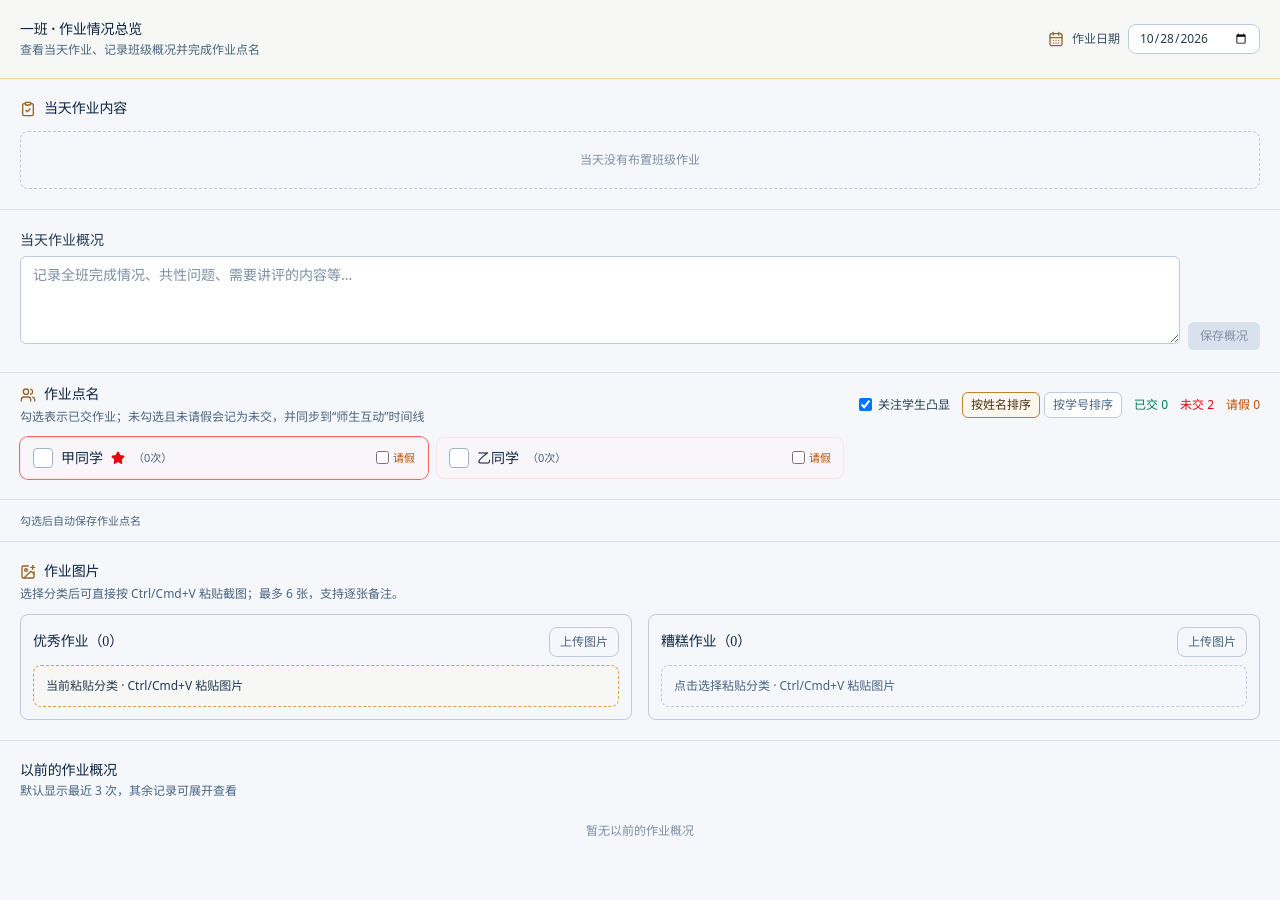
Test: ClassHomeworkOverview › enables highlighting by default and allows toggling its persistence
Expected: the heading "作业点名" is shown, [44,385,100,405]
Expected: the picture named "甲同学已关注" is shown, [111,451,125,465]
Click the checkbox labelled "关注学生凸显" at [866, 405], box [859,398,872,411]
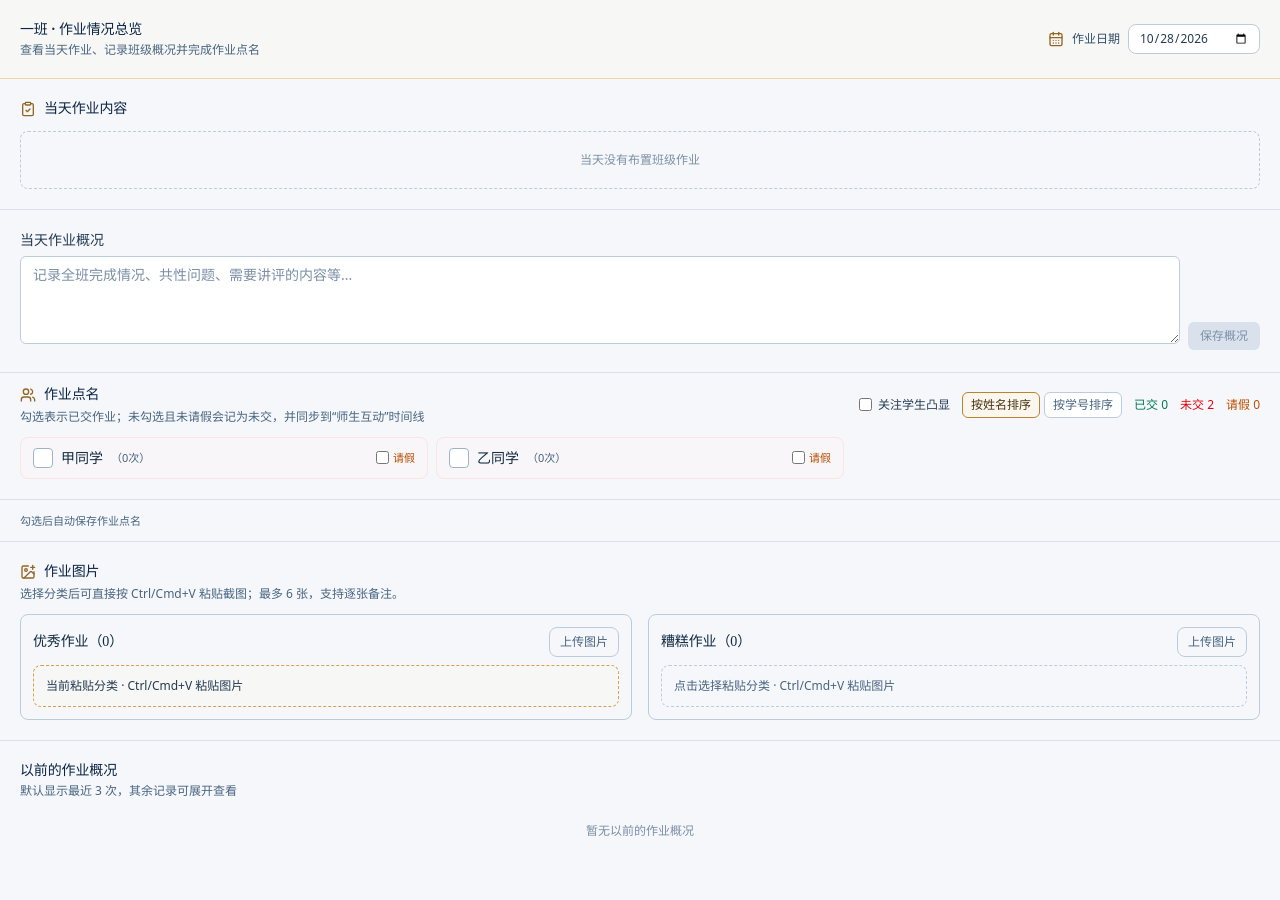
Now the checkbox labelled "关注学生凸显" is not checked
Now the picture "甲同学已关注" is gone
Click the checkbox labelled "关注学生凸显" at [866, 405], box [859,398,872,411]
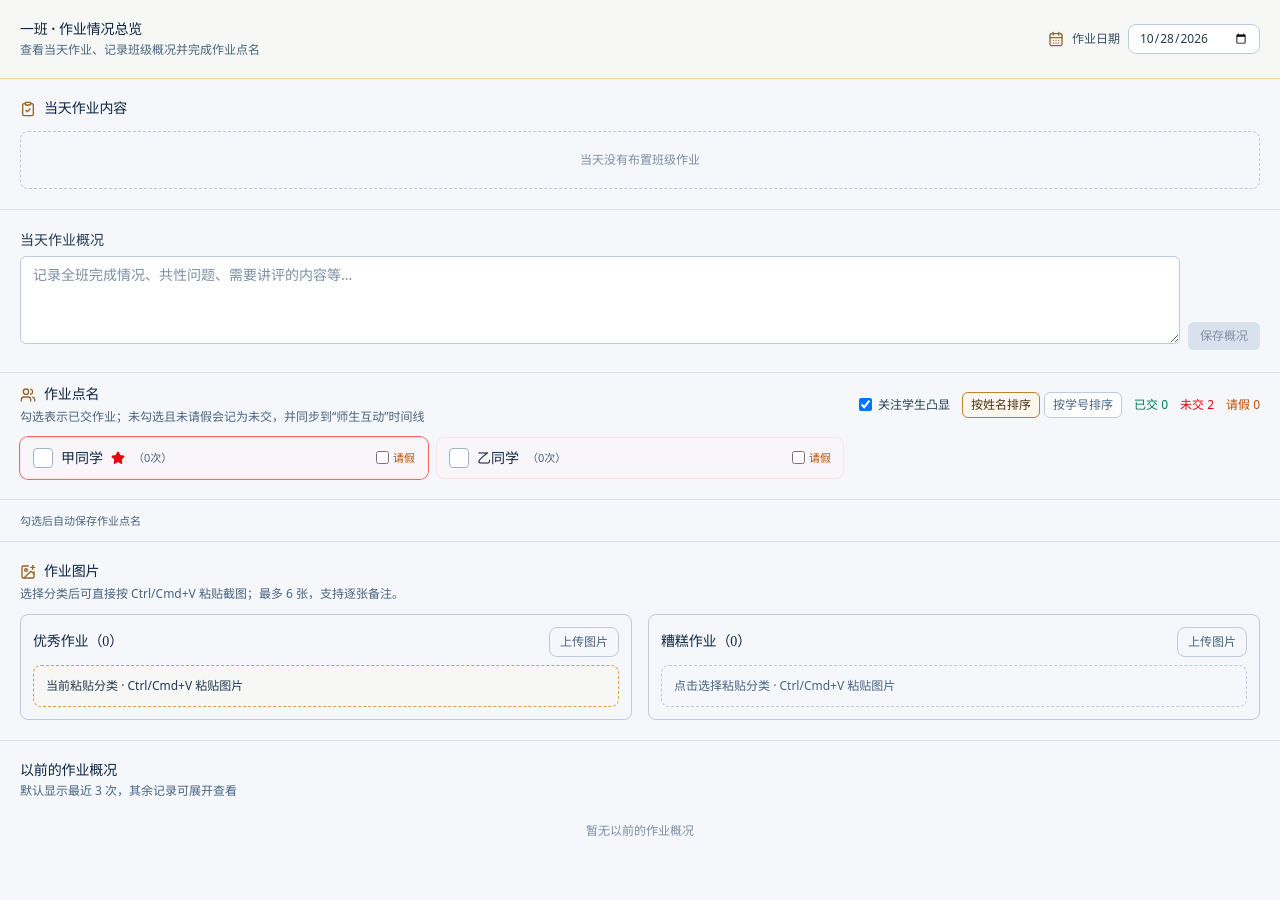
Now the picture named "甲同学已关注" is shown, box [111,451,125,465]
